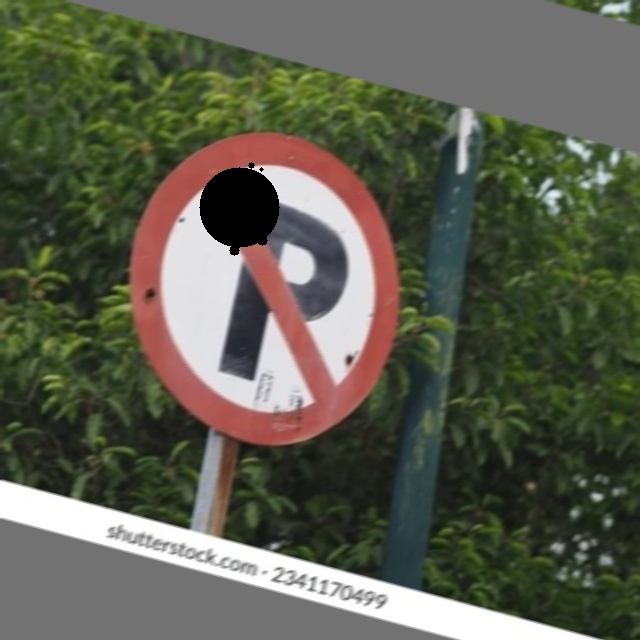No_Parking: (95, 100, 435, 467)
